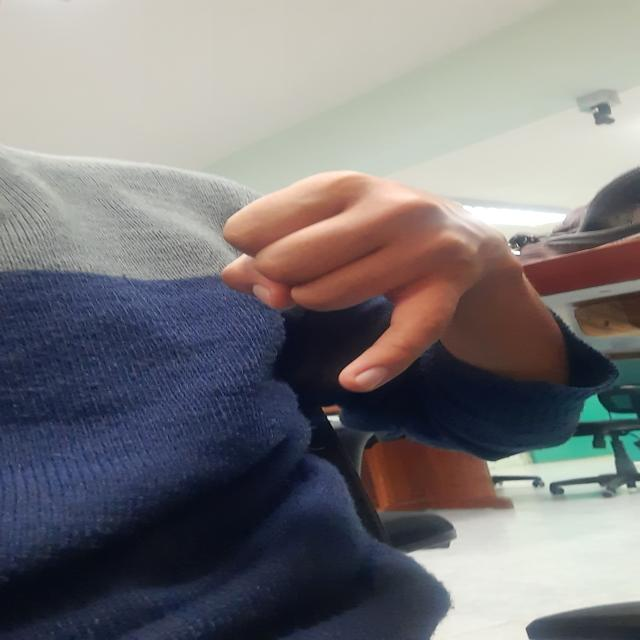J: (223, 161, 537, 386)
